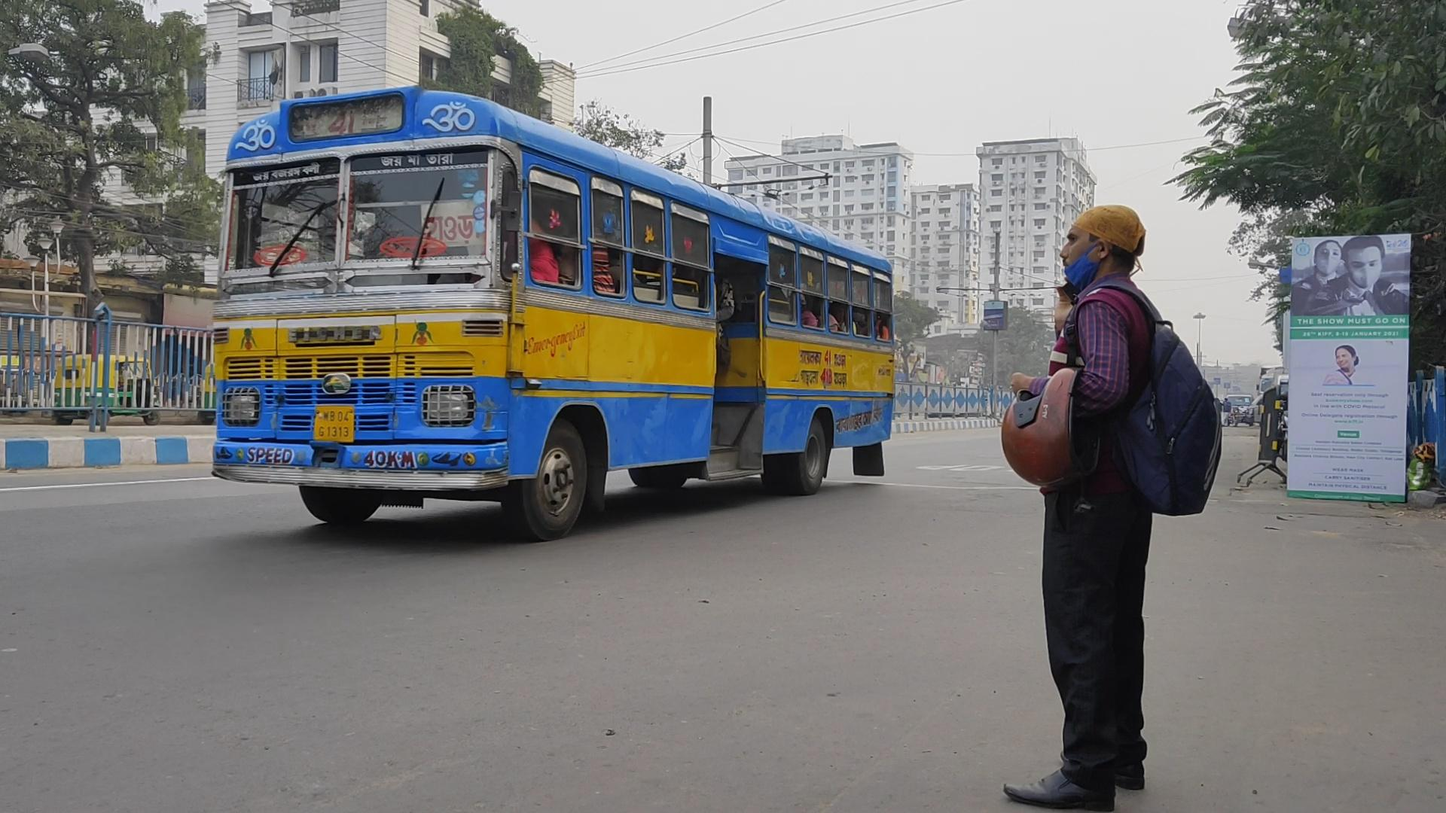Bus: (210, 88, 895, 540)
